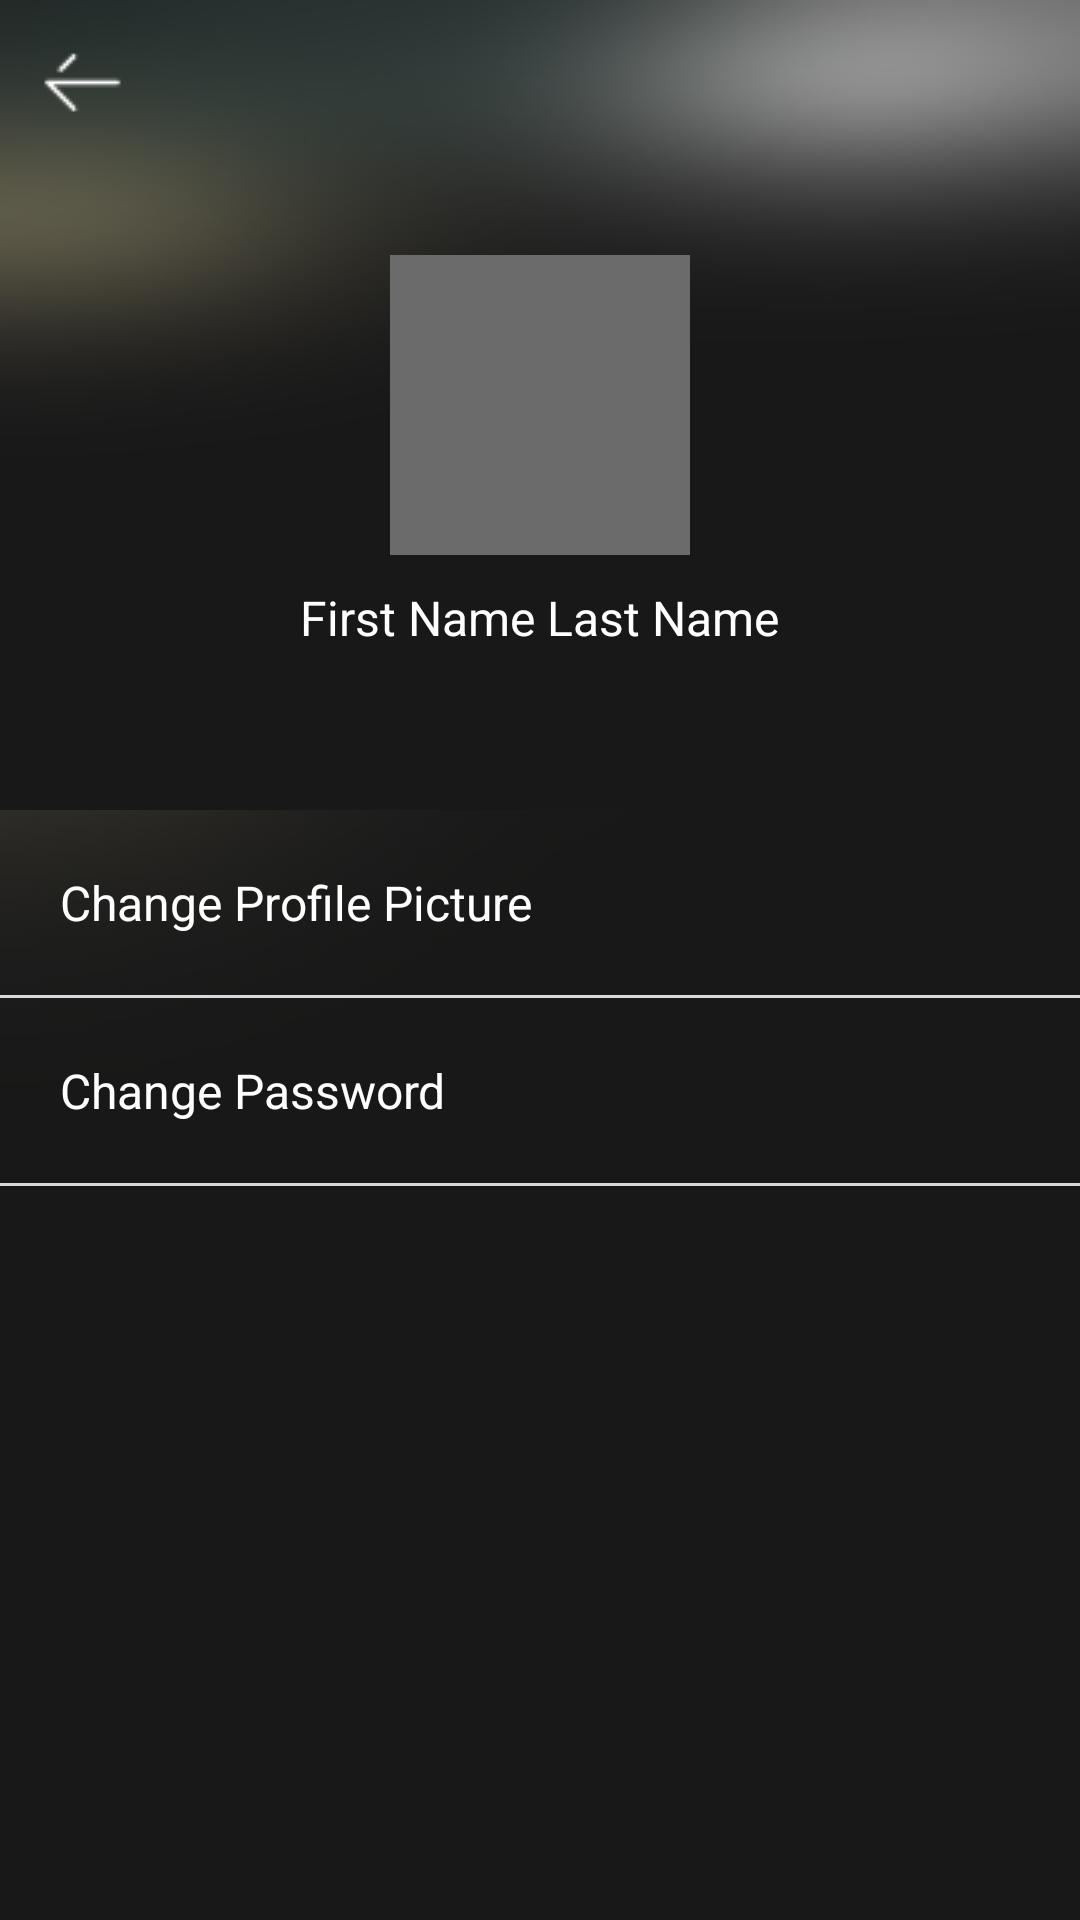

Icons on this 1080 x 1920 Android screen, each with the point to tap as (x=x, y=y):
arrow left: (x=82, y=82)
